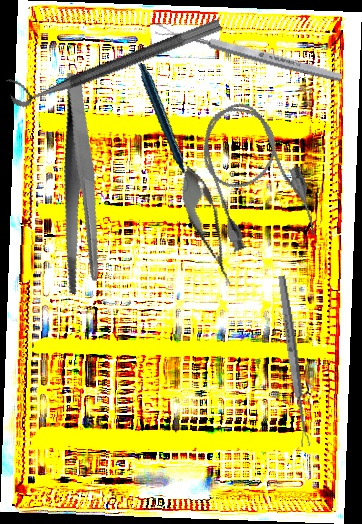Cannula: (186, 90, 324, 263)
Dressing Forceps: (19, 72, 141, 299)
Fixation Ring: (4, 1, 223, 111)
Handpiece: (109, 62, 217, 193)
Micro Scissor: (171, 161, 244, 291)
Surgical Spoon: (154, 21, 343, 85), (276, 275, 311, 447)
